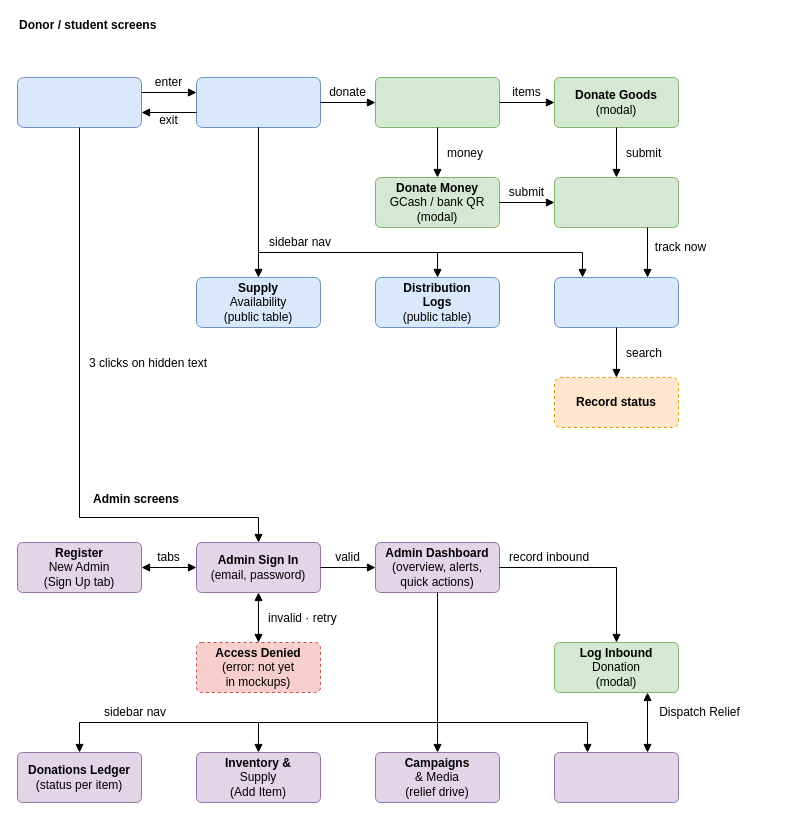
This 792x820 diagram has some shape labels left out. The centre of each missing label's shape, as x and y in pixels:
Distribution Logs (Dispatch Relief): the point at 616,777
Donation Recorded (modal) shows ref. code: the point at 616,202
Public Portal (drives, supply overview): the point at 258,102
Select Donation Type (modal): the point at 437,102
Track Donation Reference (Search Record): the point at 616,302
Welcome Page (SafeTrace): the point at 79,102
